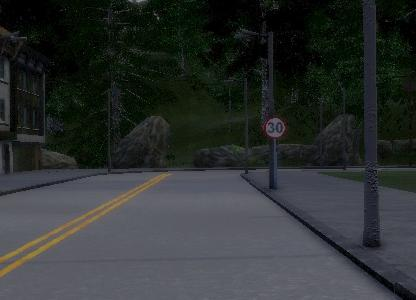Speed_30: (262, 115, 287, 141)
